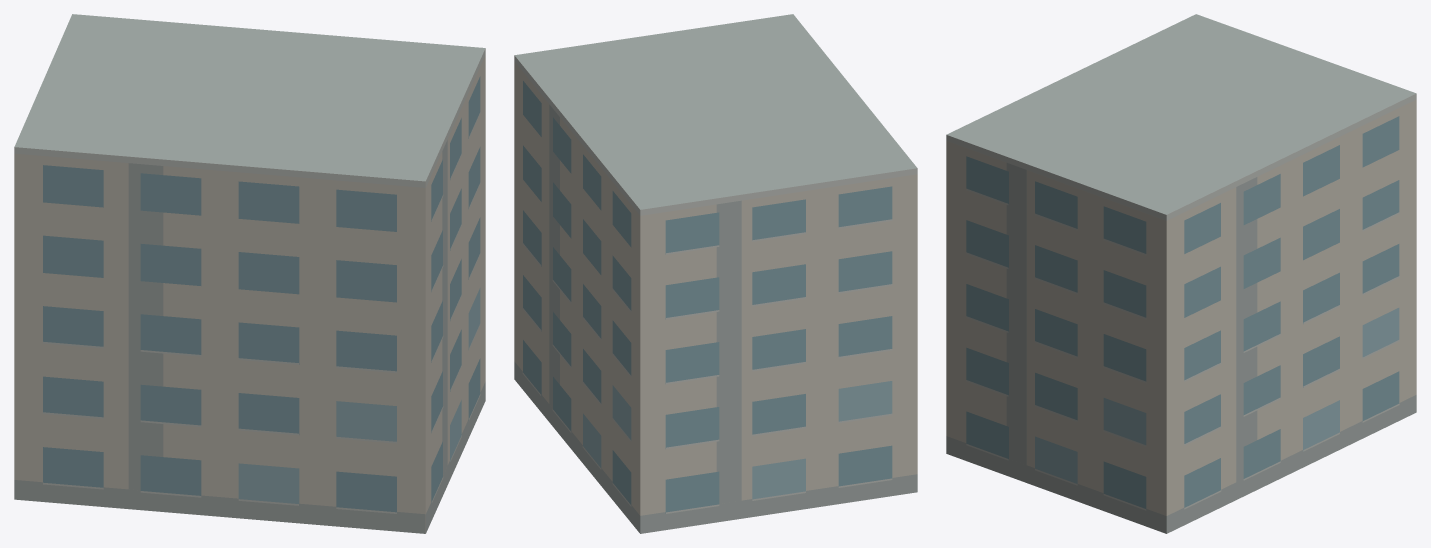
The model's file is survey-upis-32854231.glb.
3 views of the same model, side by side, from view 1: azimuth 30°, elevation 25°; view 2: azimuth 150°, elevation 25°; view 3: azimuth 270°, elevation 25° (orthographic). The views are drawn at different scales.
Visible parts, largest first — view 1: survey-upis-32854231.tmp; view 2: survey-upis-32854231.tmp; view 3: survey-upis-32854231.tmp.
Boxes of the visible parts, <box> form: survey-upis-32854231.tmp: <box>14,14,485,533</box>; survey-upis-32854231.tmp: <box>514,14,917,533</box>; survey-upis-32854231.tmp: <box>946,14,1416,533</box>.
Size of the model in its own units: 17.84 by 13.2 by 17.65.
